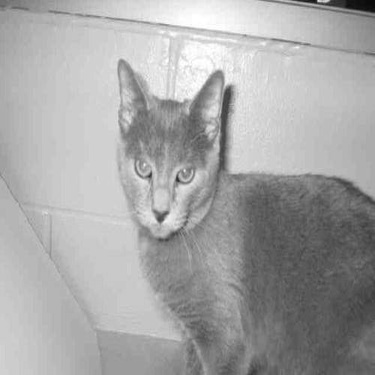cat: (117, 49, 369, 371)
